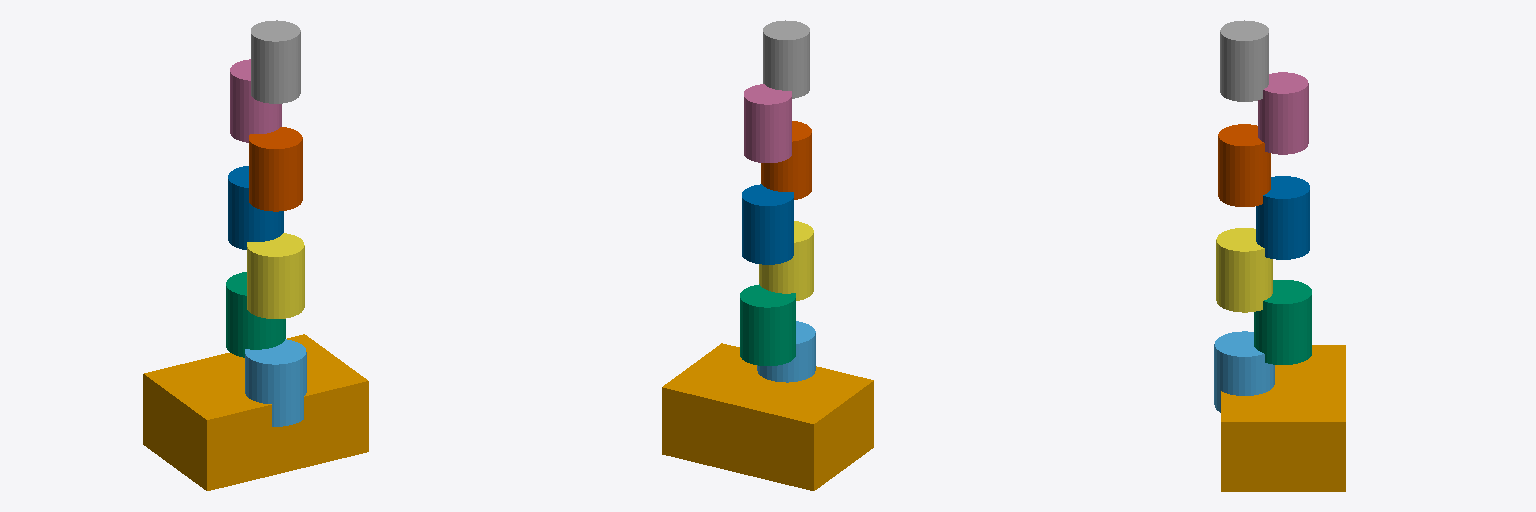
The robot description file, URDF, robot "stretch4_urdf":
<?xml version="1.0" encoding="utf-8"?>
<!-- =================================================================================== -->
<!-- 现实基准原件: stretch4_urdf (stretch4_urdf/SE4_tools/eoa_wrist_dw4_tool_sg4/eoa_wrist_dw4_tool_sg4.urdf)                                          -->
<!-- 机型描述: Hello Robot Stretch 4 新一代移动操作机器人 URDF 基准                                                                   -->
<!-- 运动学拓扑统计: 8 连杆 / 7 关节                                                    -->
<!-- =================================================================================== -->
<robot name="stretch4_urdf">
  <link name="base_link">
    <inertial>
      <origin xyz="0 0 0.08" rpy="0 0 0"/>
      <mass value="16.40"/>
      <inertia ixx="0.185" ixy="0.0" ixz="0.0" iyy="0.240" iyz="0.0" izz="0.295"/>
    </inertial>
    <visual>
      <origin xyz="0 0 0.08" rpy="0 0 0"/>
      <geometry><box size="0.38 0.26 0.16"/></geometry>
    </visual>
    <collision>
      <origin xyz="0 0 0.08" rpy="0 0 0"/>
      <geometry><box size="0.38 0.26 0.16"/></geometry>
    </collision>
  </link>

  <link name="link_1">
    <inertial>
      <origin xyz="0 0 0.06" rpy="0 0 0"/>
      <mass value="3.200"/>
      <inertia ixx="0.014" ixy="0.0" ixz="0.0" iyy="0.014" iyz="0.0" izz="0.008"/>
    </inertial>
    <visual>
      <origin xyz="0 0 0.06" rpy="0 0 0"/>
      <geometry><cylinder radius="0.063" length="0.14"/></geometry>
    </visual>
  </link>
  <joint name="joint_1" type="revolute">
    <parent link="base_link"/>
    <child link="link_1"/>
    <origin xyz="0 -0.080 0.12" rpy="0 0 0"/>
    <axis xyz="1 0 0"/>
    <limit lower="-2.7925" upper="2.7925" effort="85.0" velocity="6.28"/>
  </joint>

  <link name="link_2">
    <inertial>
      <origin xyz="0 0 0.06" rpy="0 0 0"/>
      <mass value="2.263"/>
      <inertia ixx="0.014" ixy="0.0" ixz="0.0" iyy="0.014" iyz="0.0" izz="0.008"/>
    </inertial>
    <visual>
      <origin xyz="0 0 0.06" rpy="0 0 0"/>
      <geometry><cylinder radius="0.061" length="0.14"/></geometry>
    </visual>
  </link>
  <joint name="joint_2" type="revolute">
    <parent link="link_1"/>
    <child link="link_2"/>
    <origin xyz="0 0.080 0.12" rpy="0 0 0"/>
    <axis xyz="0 1 0"/>
    <limit lower="-2.7925" upper="2.7925" effort="85.0" velocity="6.28"/>
  </joint>

  <link name="link_3">
    <inertial>
      <origin xyz="0 0 0.06" rpy="0 0 0"/>
      <mass value="1.848"/>
      <inertia ixx="0.014" ixy="0.0" ixz="0.0" iyy="0.014" iyz="0.0" izz="0.008"/>
    </inertial>
    <visual>
      <origin xyz="0 0 0.06" rpy="0 0 0"/>
      <geometry><cylinder radius="0.059" length="0.14"/></geometry>
    </visual>
  </link>
  <joint name="joint_3" type="revolute">
    <parent link="link_2"/>
    <child link="link_3"/>
    <origin xyz="0 -0.080 0.12" rpy="0 0 0"/>
    <axis xyz="0 0 1"/>
    <limit lower="-2.7925" upper="2.7925" effort="85.0" velocity="6.28"/>
  </joint>

  <link name="link_4">
    <inertial>
      <origin xyz="0 0 0.06" rpy="0 0 0"/>
      <mass value="1.600"/>
      <inertia ixx="0.014" ixy="0.0" ixz="0.0" iyy="0.014" iyz="0.0" izz="0.008"/>
    </inertial>
    <visual>
      <origin xyz="0 0 0.06" rpy="0 0 0"/>
      <geometry><cylinder radius="0.057" length="0.14"/></geometry>
    </visual>
  </link>
  <joint name="joint_4" type="revolute">
    <parent link="link_3"/>
    <child link="link_4"/>
    <origin xyz="0 0.080 0.12" rpy="0 0 0"/>
    <axis xyz="0 1 0"/>
    <limit lower="-2.7925" upper="2.7925" effort="85.0" velocity="6.28"/>
  </joint>

  <link name="link_5">
    <inertial>
      <origin xyz="0 0 0.06" rpy="0 0 0"/>
      <mass value="1.431"/>
      <inertia ixx="0.014" ixy="0.0" ixz="0.0" iyy="0.014" iyz="0.0" izz="0.008"/>
    </inertial>
    <visual>
      <origin xyz="0 0 0.06" rpy="0 0 0"/>
      <geometry><cylinder radius="0.055" length="0.14"/></geometry>
    </visual>
  </link>
  <joint name="joint_5" type="revolute">
    <parent link="link_4"/>
    <child link="link_5"/>
    <origin xyz="0 -0.080 0.12" rpy="0 0 0"/>
    <axis xyz="1 0 0"/>
    <limit lower="-2.7925" upper="2.7925" effort="85.0" velocity="6.28"/>
  </joint>

  <link name="link_6">
    <inertial>
      <origin xyz="0 0 0.06" rpy="0 0 0"/>
      <mass value="1.306"/>
      <inertia ixx="0.014" ixy="0.0" ixz="0.0" iyy="0.014" iyz="0.0" izz="0.008"/>
    </inertial>
    <visual>
      <origin xyz="0 0 0.06" rpy="0 0 0"/>
      <geometry><cylinder radius="0.053" length="0.14"/></geometry>
    </visual>
  </link>
  <joint name="joint_6" type="revolute">
    <parent link="link_5"/>
    <child link="link_6"/>
    <origin xyz="0 0.080 0.12" rpy="0 0 0"/>
    <axis xyz="0 0 1"/>
    <limit lower="-2.7925" upper="2.7925" effort="85.0" velocity="6.28"/>
  </joint>

  <link name="link_7">
    <inertial>
      <origin xyz="0 0 0.06" rpy="0 0 0"/>
      <mass value="1.209"/>
      <inertia ixx="0.014" ixy="0.0" ixz="0.0" iyy="0.014" iyz="0.0" izz="0.008"/>
    </inertial>
    <visual>
      <origin xyz="0 0 0.06" rpy="0 0 0"/>
      <geometry><cylinder radius="0.051" length="0.14"/></geometry>
    </visual>
  </link>
  <joint name="joint_7" type="revolute">
    <parent link="link_6"/>
    <child link="link_7"/>
    <origin xyz="0 -0.080 0.12" rpy="0 0 0"/>
    <axis xyz="1 0 0"/>
    <limit lower="-2.7925" upper="2.7925" effort="85.0" velocity="6.28"/>
  </joint>
</robot>

--- What the picture shows (computed from the rendered views, not written in the file) ---
Views: 3 orthographic renders of the robot side by side, from view 1: azimuth 30°, elevation 25°; view 2: azimuth 150°, elevation 25°; view 3: azimuth 270°, elevation 25°.
Model stretch4_urdf with 8 links and 7 joints (7 revolute), rooted at base_link, posed every joint at zero.
Links seen in each view (by area): view 1: base_link, link_3, link_5, link_1, link_7, link_2, link_4, link_6; view 2: base_link, link_2, link_4, link_6, link_7, link_3, link_5, link_1; view 3: base_link, link_2, link_3, link_4, link_5, link_7, link_6, link_1.
Boxes of the visible links, x1,y1,x2,y2 form: base_link: (143, 334, 368, 490); link_3: (247, 233, 304, 318); link_5: (249, 127, 302, 211); link_1: (245, 339, 306, 426); link_7: (251, 20, 300, 103); link_2: (226, 272, 285, 357); link_4: (228, 166, 283, 249); link_6: (230, 59, 281, 142); base_link: (662, 343, 873, 490); link_2: (740, 284, 795, 365); link_4: (742, 184, 793, 264); link_6: (744, 84, 791, 162); link_7: (763, 20, 809, 98); link_3: (759, 221, 813, 300); link_5: (761, 121, 811, 199); link_1: (757, 321, 815, 382); base_link: (1221, 345, 1345, 491); link_2: (1254, 280, 1311, 364); link_3: (1216, 228, 1272, 312); link_4: (1256, 176, 1309, 259); link_5: (1218, 124, 1270, 206); link_7: (1220, 20, 1268, 101); link_6: (1258, 72, 1308, 154); link_1: (1214, 331, 1274, 412).
Bounding box of the posed robot: 0.38 × 0.273 × 0.97 m (x, y, z).
Geometry: primitives only (box / cylinder / sphere), no mesh files.
